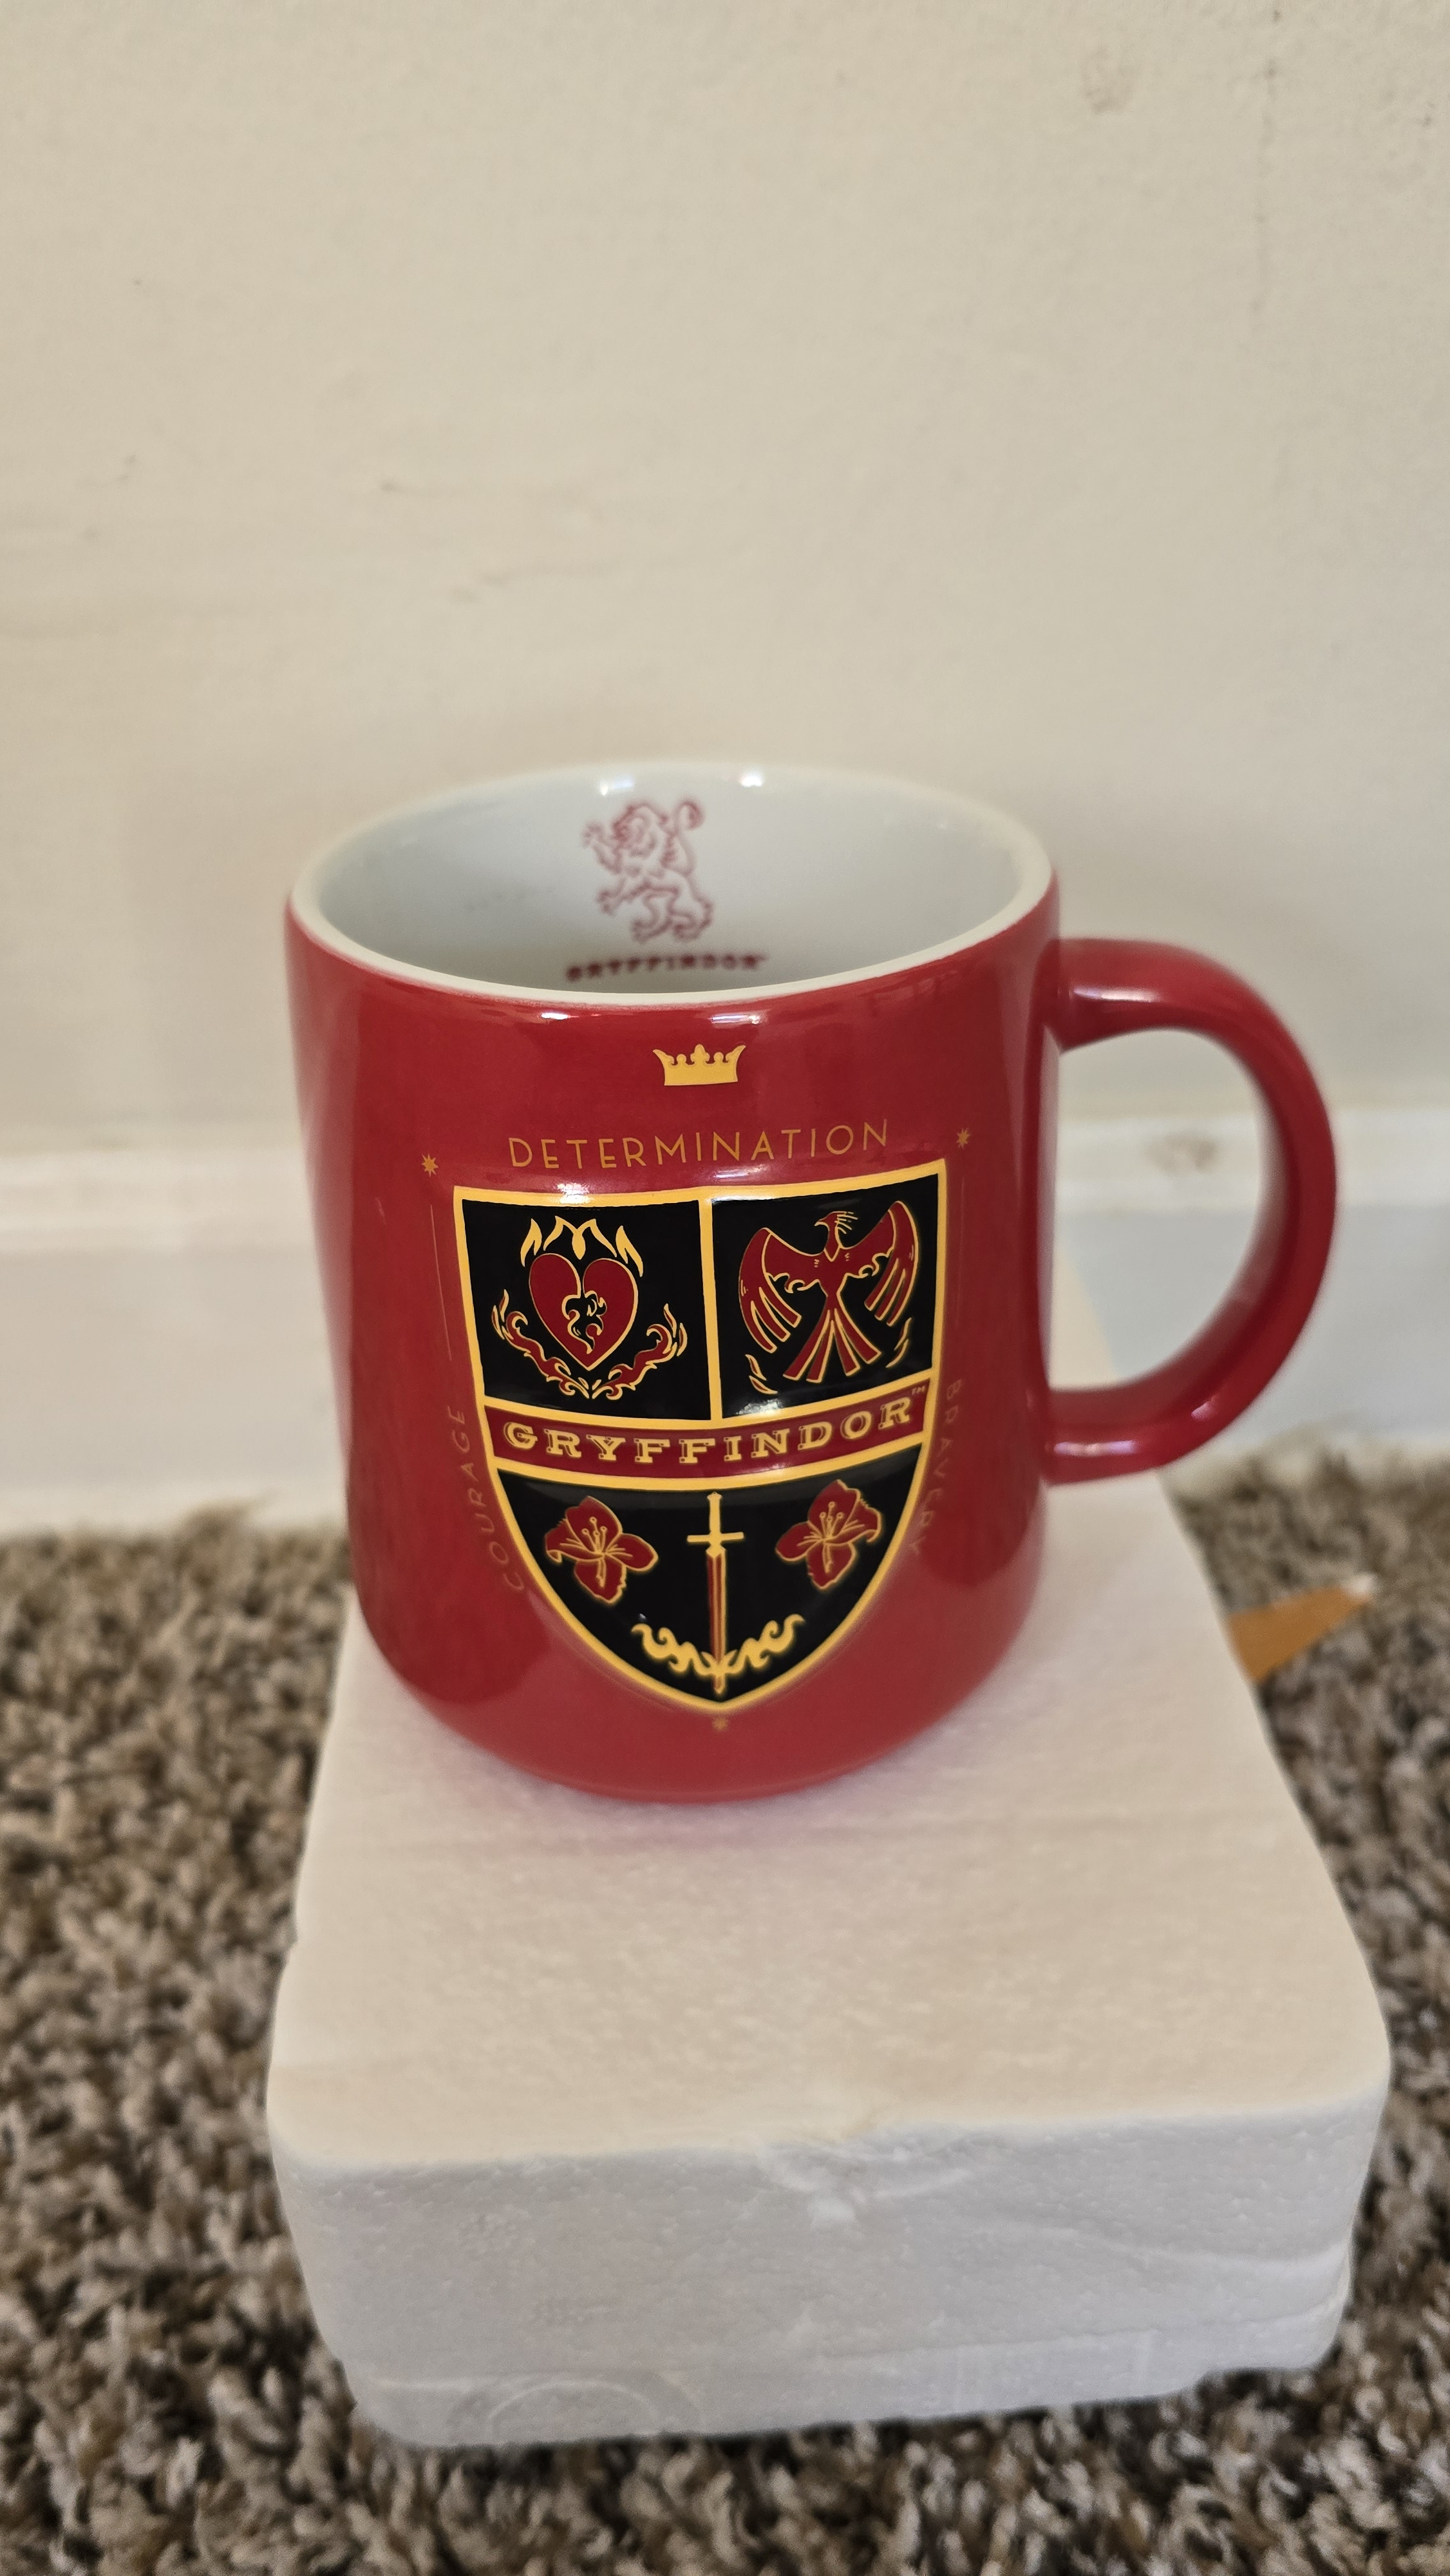mug: (214, 708, 1418, 1844)
